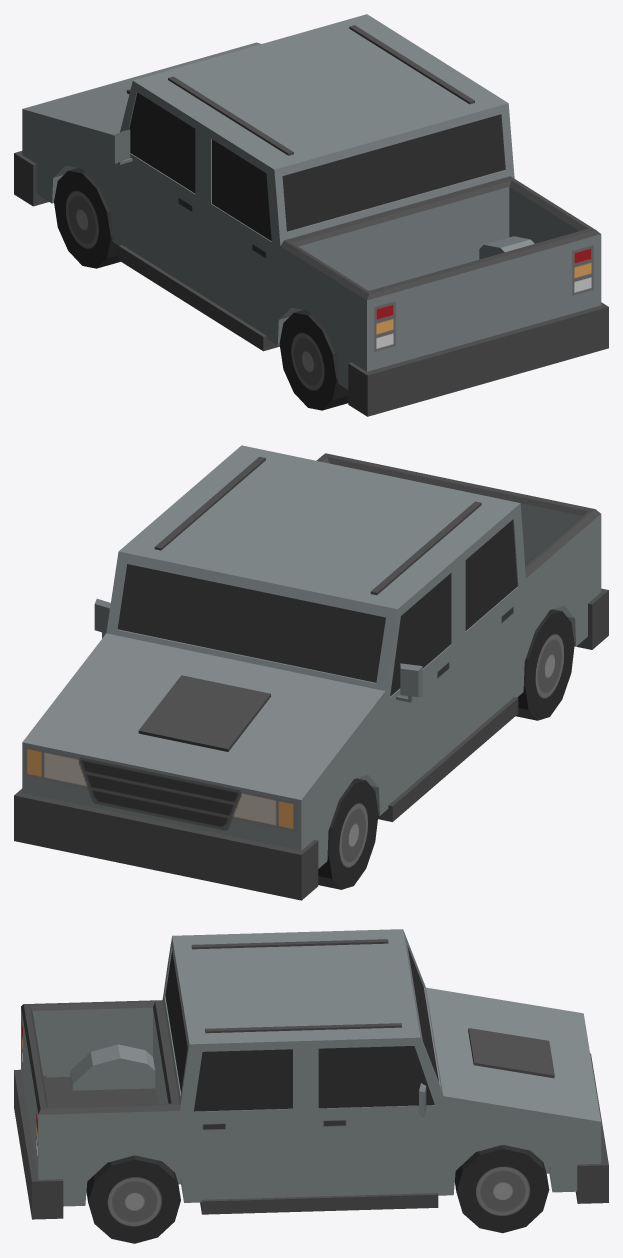
File: Car5_truck2.glb
3 renders of one model, top to bottom at view 1: azimuth 30°, elevation 25°; view 2: azimuth 150°, elevation 25°; view 3: azimuth 270°, elevation 25°, orthographic. The views are drawn at different scales.
Visible parts, largest first — view 1: Vehicle_Pick up Truck_color02.002; view 2: Vehicle_Pick up Truck_color02.002; view 3: Vehicle_Pick up Truck_color02.002.
Part boxes in pixels (x1,y1,x2,y2): Vehicle_Pick up Truck_color02.002: (14,14,608,416); Vehicle_Pick up Truck_color02.002: (14,445,608,900); Vehicle_Pick up Truck_color02.002: (14,929,608,1243).
Bounding box in the file's own units: 0.7958 × 0.5687 × 1.53.
1 material, 1 textured.
